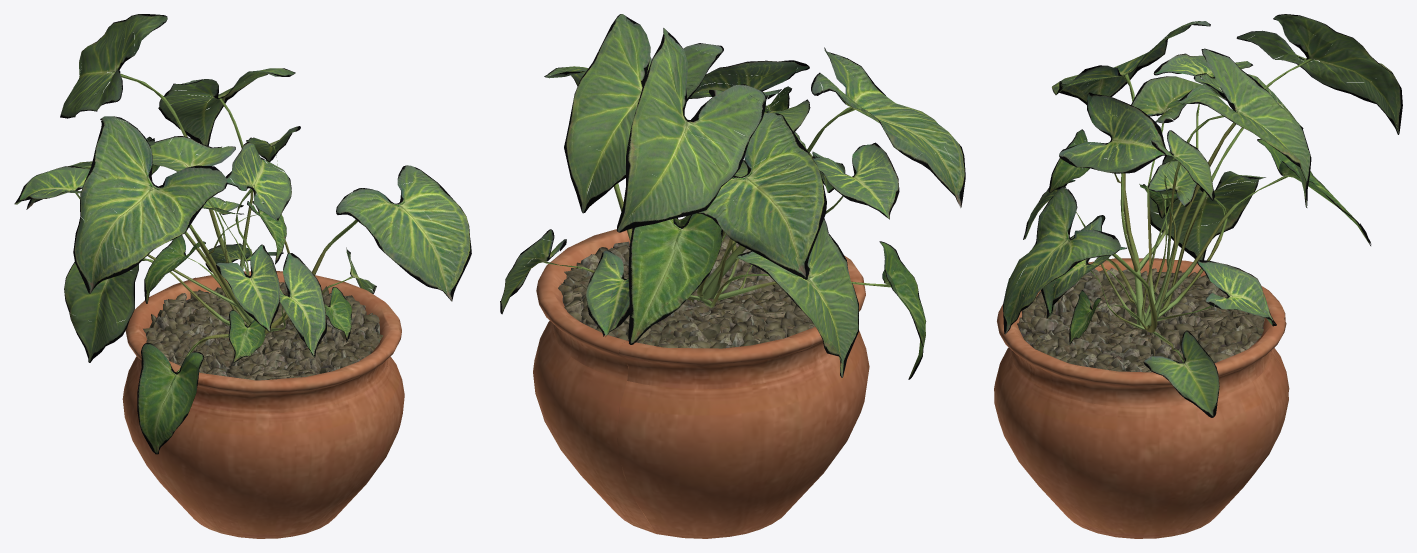
Rendered from potted_plant_02.glb.
3 views of the same model, side by side, from view 1: azimuth 30°, elevation 25°; view 2: azimuth 150°, elevation 25°; view 3: azimuth 270°, elevation 25° (orthographic). The views are drawn at different scales.
Visible parts, largest first — view 1: potted_plant_02_leaves, potted_plant_02_pot, potted_plant_02_dirt; view 2: potted_plant_02_leaves, potted_plant_02_pot, potted_plant_02_dirt; view 3: potted_plant_02_leaves, potted_plant_02_pot, potted_plant_02_dirt.
Part boxes in pixels (x1,y1,x2,y2): potted_plant_02_leaves: [14, 14, 471, 454]; potted_plant_02_pot: [122, 271, 404, 538]; potted_plant_02_dirt: [143, 282, 383, 380]; potted_plant_02_leaves: [500, 14, 965, 379]; potted_plant_02_pot: [533, 219, 869, 538]; potted_plant_02_dirt: [558, 232, 828, 348]; potted_plant_02_leaves: [1003, 14, 1402, 417]; potted_plant_02_pot: [994, 258, 1289, 538]; potted_plant_02_dirt: [1017, 268, 1264, 372].
Size of the model in its own units: 0.7008 by 0.8416 by 0.657.
2 materials, 2 textured.
